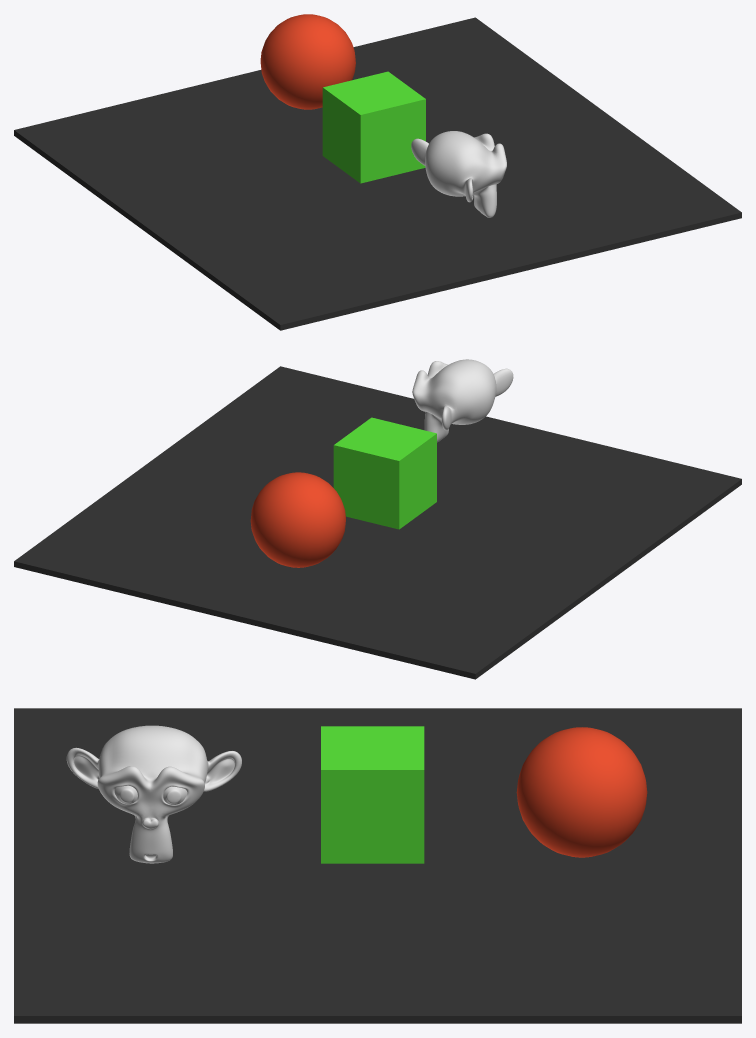
Rendered from TestScene.fbx.
3 views of the same model, one above another, from view 1: azimuth 30°, elevation 25°; view 2: azimuth 150°, elevation 25°; view 3: azimuth 270°, elevation 25° (orthographic). The views are drawn at different scales.
Visible parts, largest first — view 1: Cube, Cube.001, Sphere, Suzanne; view 2: Cube, Cube.001, Sphere, Suzanne; view 3: Cube, Cube.001, Sphere, Suzanne.
Boxes of the visible parts, left/top/right/bottom form: Cube: left=14, top=17, right=741, bottom=330; Cube.001: left=322, top=71, right=425, bottom=183; Sphere: left=260, top=14, right=355, bottom=109; Suzanne: left=411, top=131, right=506, bottom=217; Cube: left=14, top=366, right=741, bottom=679; Cube.001: left=333, top=417, right=436, bottom=529; Sphere: left=250, top=472, right=345, bottom=567; Suzanne: left=412, top=359, right=513, bottom=442; Cube: left=14, top=708, right=741, bottom=1023; Cube.001: left=321, top=726, right=424, bottom=863; Sphere: left=516, top=727, right=647, bottom=857; Suzanne: left=66, top=725, right=241, bottom=863.
Bounding box in the file's own units: 33.36 × 7.08 × 33.36.
